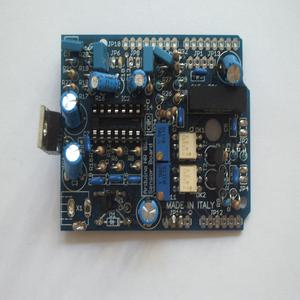duino: (36, 18, 255, 261)
